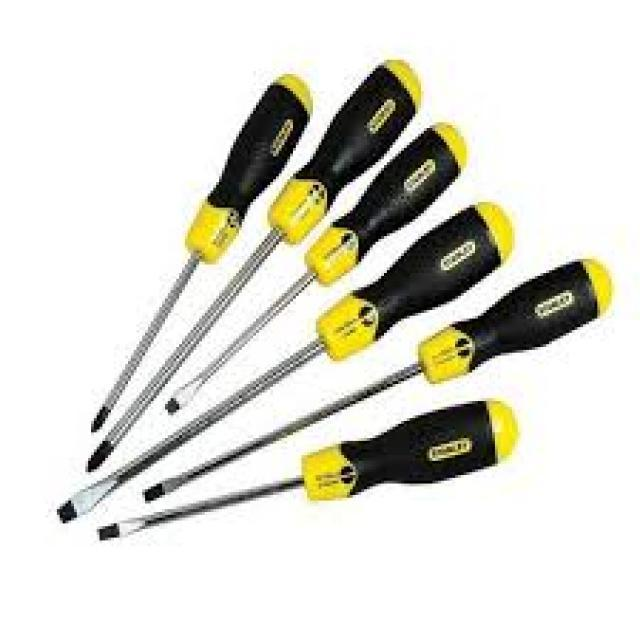screwdriver: (49, 198, 520, 528), (84, 42, 422, 480), (140, 252, 618, 510), (162, 113, 472, 420), (86, 70, 318, 433), (94, 398, 529, 549)
